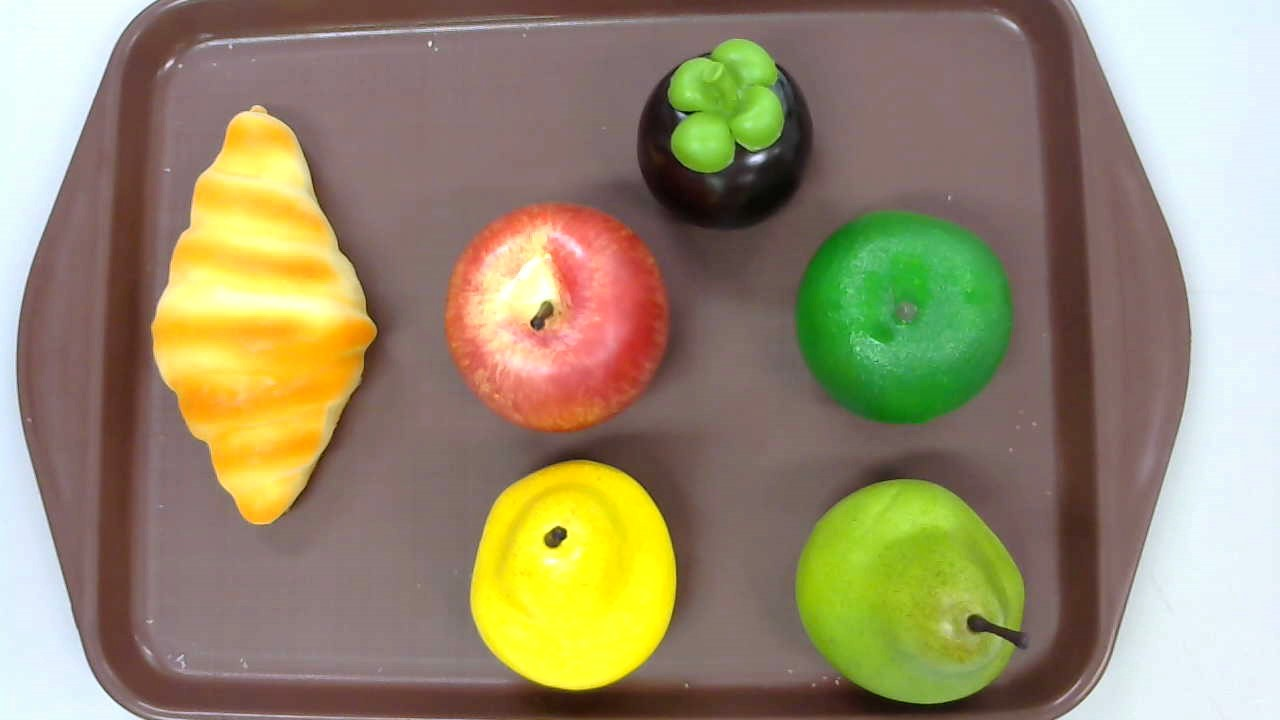croissant: (150, 103, 378, 525)
green orange: (795, 209, 1014, 425)
green pear: (793, 478, 1029, 705)
mangosteen: (636, 38, 813, 230)
red apple: (444, 201, 672, 433)
yellow pear: (469, 459, 678, 691)
